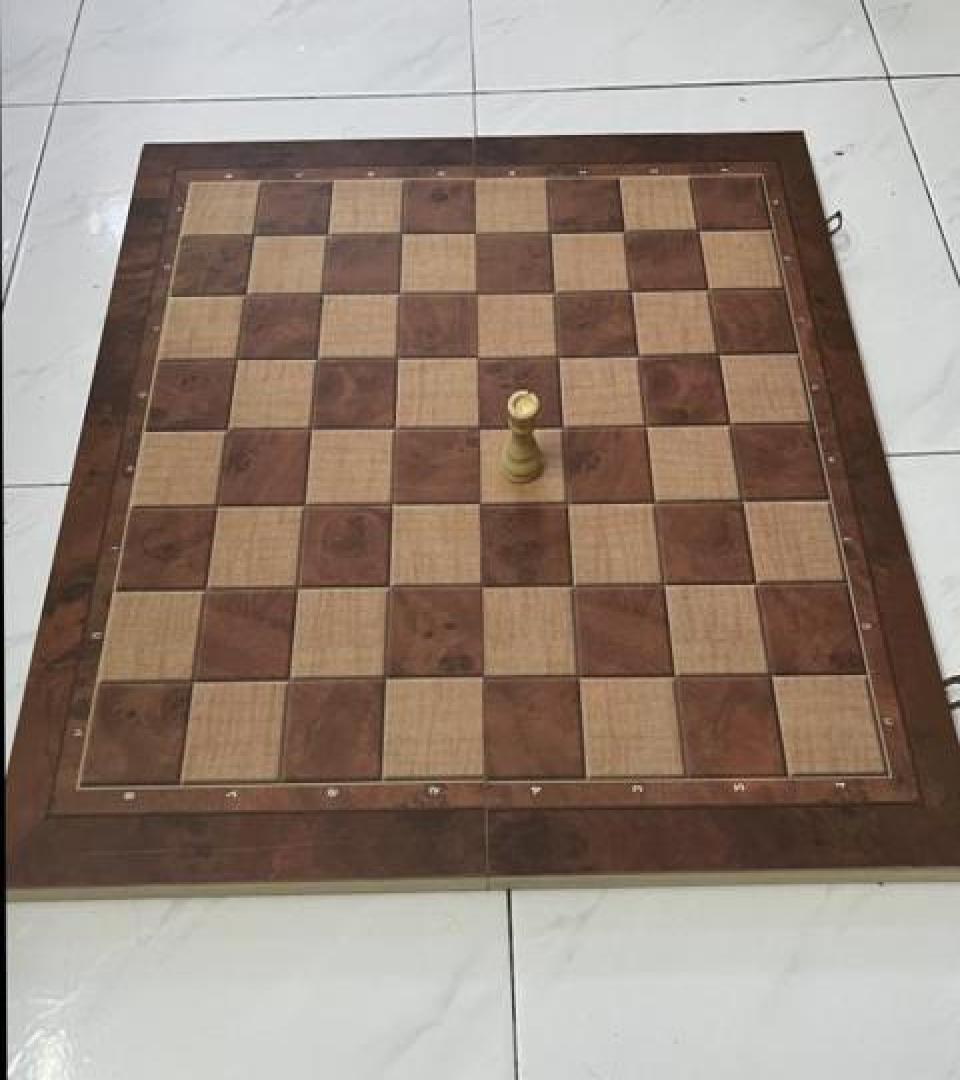xcorner: (308, 273, 342, 312), (385, 273, 419, 312), (462, 273, 496, 312), (539, 272, 573, 311), (616, 272, 650, 311), (703, 335, 737, 374), (553, 481, 587, 520), (640, 481, 674, 520), (740, 562, 774, 601), (181, 661, 215, 700), (238, 215, 272, 253), (313, 214, 347, 252), (387, 214, 421, 252), (461, 214, 495, 252), (535, 213, 569, 251), (609, 213, 643, 251), (682, 213, 716, 251), (230, 274, 264, 312), (692, 271, 726, 309), (222, 339, 256, 377), (303, 339, 337, 377), (383, 338, 417, 376), (463, 338, 497, 376), (543, 336, 577, 374), (623, 336, 657, 374), (213, 410, 247, 448), (297, 408, 331, 446), (381, 408, 415, 446), (465, 408, 499, 446), (548, 406, 582, 444), (631, 405, 665, 443), (714, 405, 748, 443), (203, 486, 237, 524), (291, 485, 325, 523), (379, 484, 413, 522), (466, 483, 500, 521), (727, 480, 761, 518), (193, 570, 227, 608), (285, 568, 319, 606), (377, 567, 411, 605), (468, 566, 502, 604), (559, 565, 593, 603), (650, 564, 684, 602), (278, 660, 312, 698), (374, 658, 408, 696), (470, 657, 504, 695), (565, 656, 599, 694), (660, 655, 694, 693), (755, 654, 789, 692)
